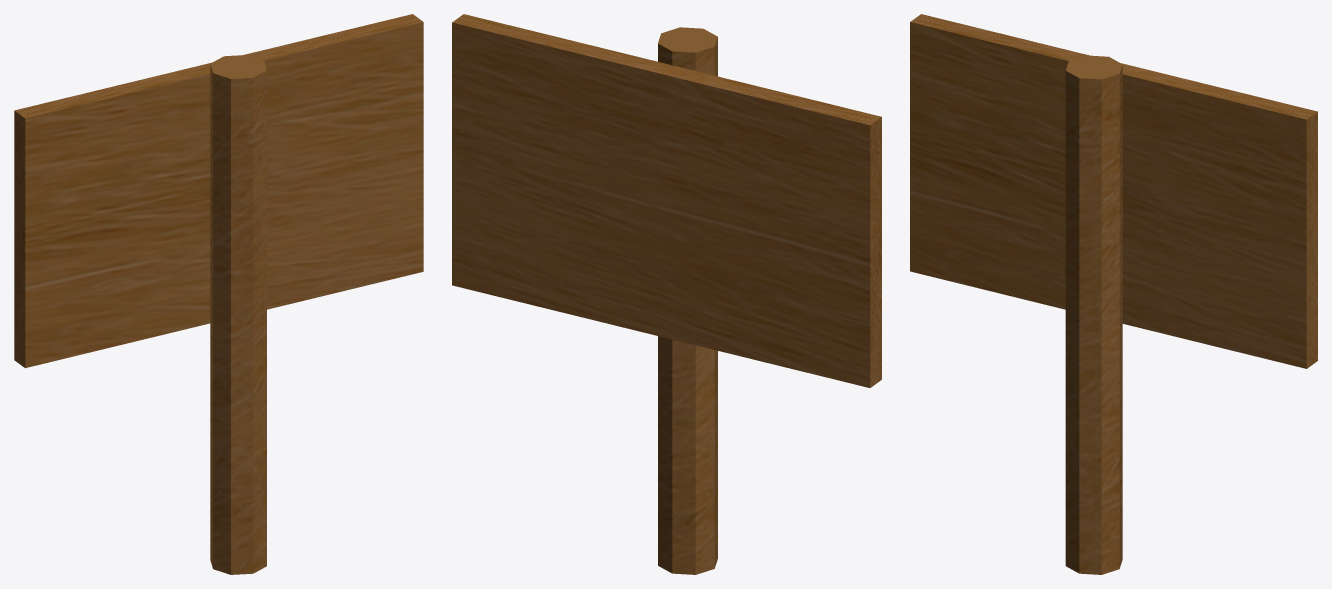
Rendered from signboard.obj.
3 renders of one model, left to right at view 1: azimuth 30°, elevation 25°; view 2: azimuth 150°, elevation 25°; view 3: azimuth 330°, elevation 25°, orthographic. The views are drawn at different scales.
Parts seen in each view (by area): view 1: 立方体; view 2: 立方体; view 3: 立方体.
Boxes of the visible parts, x1=… form: 立方体: x1=14, y1=14, x2=423, y2=574; 立方体: x1=452, y1=14, x2=881, y2=574; 立方体: x1=910, y1=14, x2=1317, y2=574.
Bounding box in the file's own units: 1.75 × 2.09 × 0.3081.
1 material, 1 textured.
